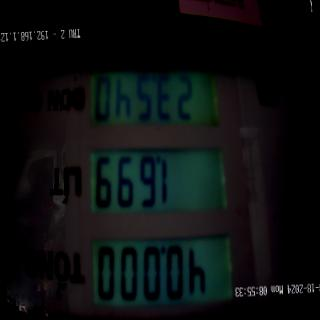screen: (75, 29, 239, 320)
